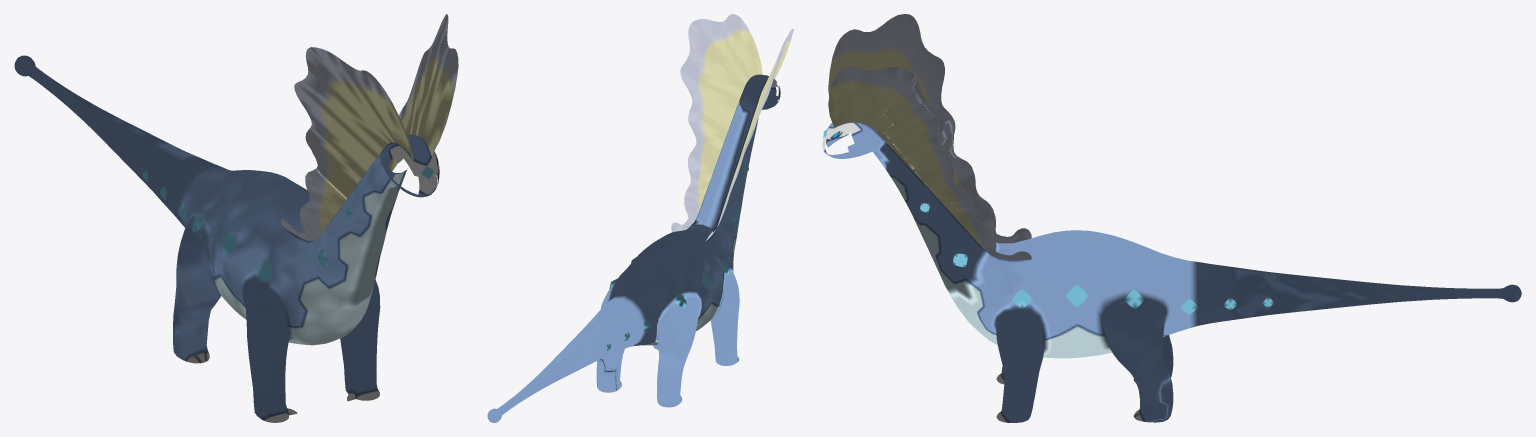
The model's file is 699-aurorus.gltf.
3 renders of one model, left to right at view 1: azimuth 30°, elevation 25°; view 2: azimuth 150°, elevation 25°; view 3: azimuth 270°, elevation 25°, orthographic. The views are drawn at different scales.
Visible parts, largest first — view 1: Aurorus; view 2: Aurorus; view 3: Aurorus.
Part boxes in pixels (x1,y1,x2,y2): Aurorus: [14, 14, 458, 422]; Aurorus: [487, 14, 793, 422]; Aurorus: [822, 14, 1521, 422].
Bounding box in the file's own units: 111 × 322 × 571.
4 materials, 4 textured.
